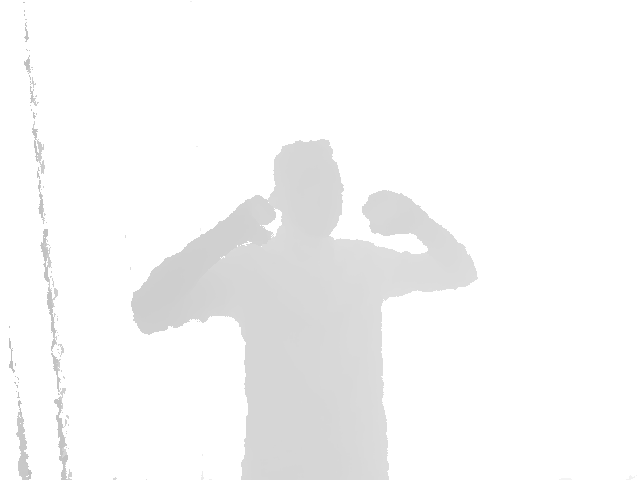head: (268, 139, 345, 239)
person: (129, 139, 480, 480)
